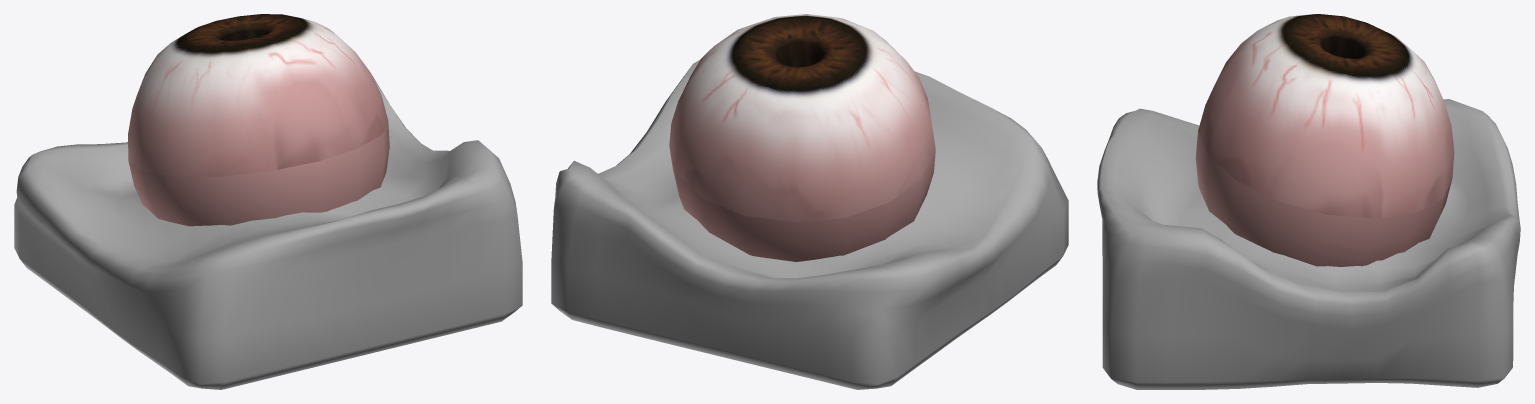
File: eye.fbx
3 views of the same model, side by side, from view 1: azimuth 30°, elevation 25°; view 2: azimuth 150°, elevation 25°; view 3: azimuth 270°, elevation 25° (orthographic). The views are drawn at different scales.
Visible parts, largest first — view 1: base, eye; view 2: base, eye; view 3: base, eye.
Part boxes in pixels (<box>): base: <box>14,75,522,389</box>; eye: <box>128,14,389,226</box>; base: <box>551,59,1068,389</box>; eye: <box>669,14,935,261</box>; base: <box>1097,99,1520,389</box>; eye: <box>1195,14,1454,266</box>.
Bounding box in the file's own units: 20.5 × 14.11 × 19.68.
